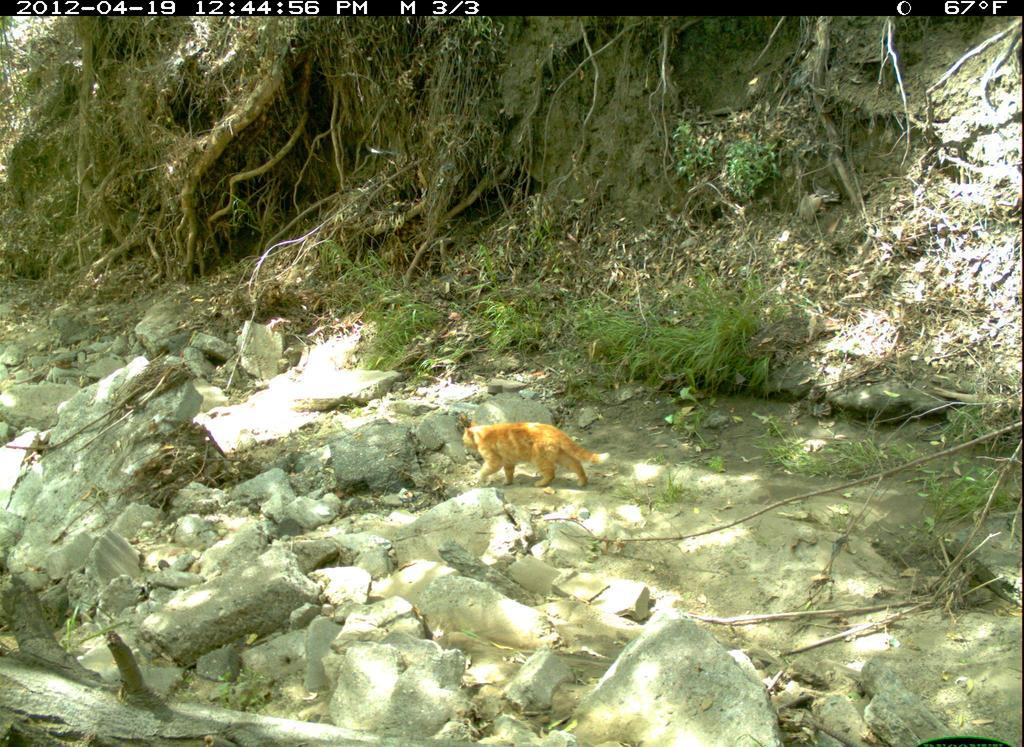cat: (457, 405, 625, 506)
